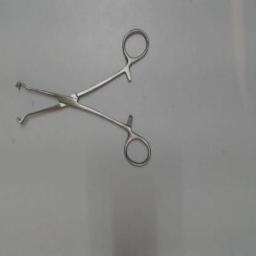Babcock Tissue Forceps: (12, 26, 156, 172)
